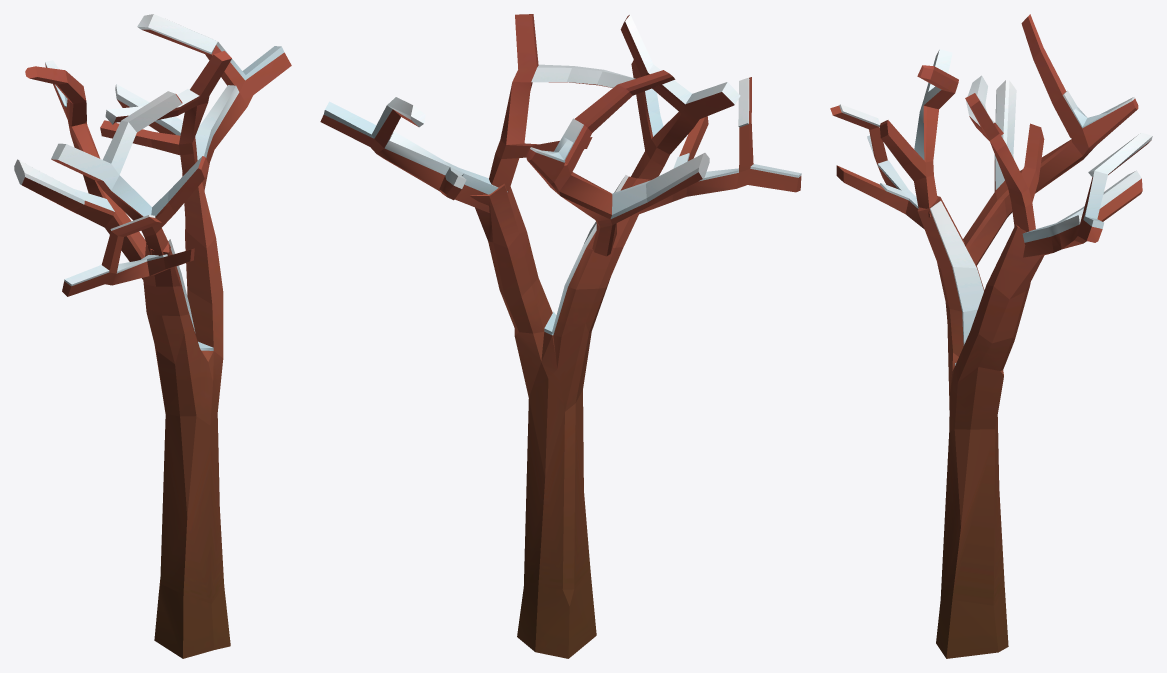
The picture shows the model from 3 angles, left to right: view 1: azimuth 30°, elevation 25°; view 2: azimuth 150°, elevation 25°; view 3: azimuth 270°, elevation 25°; orthographic projection. The views are drawn at different scales.
Parts seen in each view (by area): view 1: SnowyDeadTree1; view 2: SnowyDeadTree1; view 3: SnowyDeadTree1.
Part boxes in pixels (<box>): SnowyDeadTree1: <box>14,14,291,658</box>; SnowyDeadTree1: <box>320,14,801,658</box>; SnowyDeadTree1: <box>830,14,1152,658</box>.
Bounding box in the file's own units: 298 × 500 × 256.
Materials: 1 (1 with a texture image).
